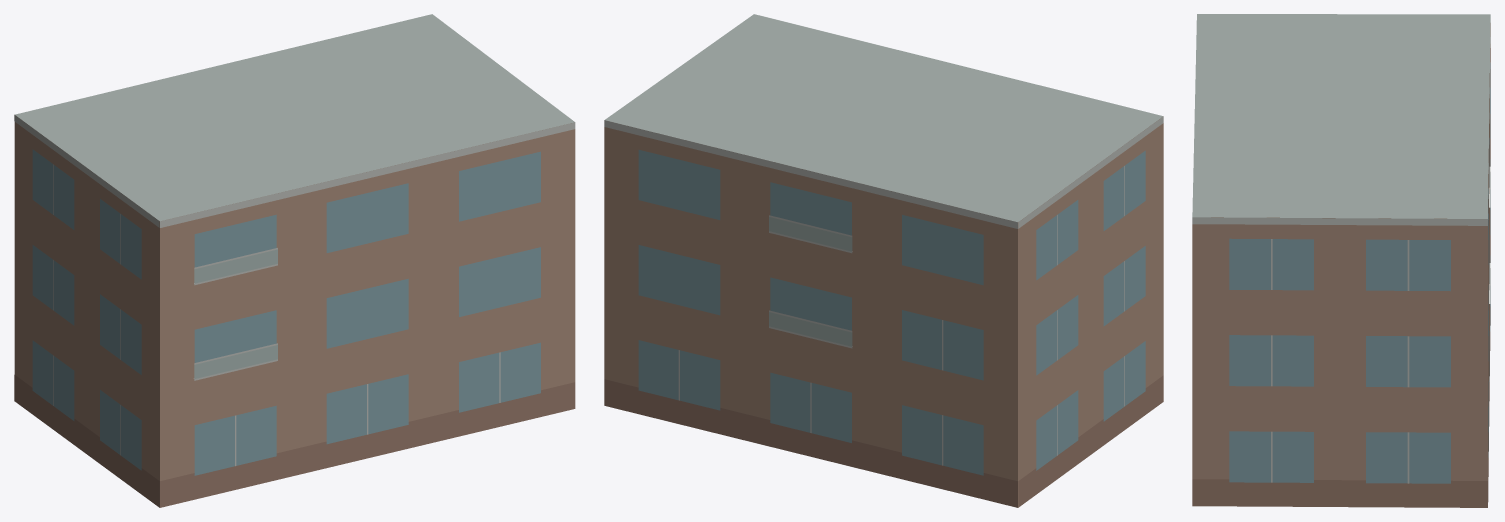
Rendered from survey-upis-32636865.glb.
3 renders of one model, left to right at view 1: azimuth 30°, elevation 25°; view 2: azimuth 150°, elevation 25°; view 3: azimuth 270°, elevation 25°, orthographic.
Visible parts, largest first — view 1: survey-upis-32636865.tmp; view 2: survey-upis-32636865.tmp; view 3: survey-upis-32636865.tmp.
Part boxes in pixels (x1=…): survey-upis-32636865.tmp: x1=14, y1=14, x2=575, y2=507; survey-upis-32636865.tmp: x1=604, y1=14, x2=1163, y2=507; survey-upis-32636865.tmp: x1=1192, y1=14, x2=1490, y2=507.
Size of the model in its own units: 15.54 by 10.2 by 9.56.
